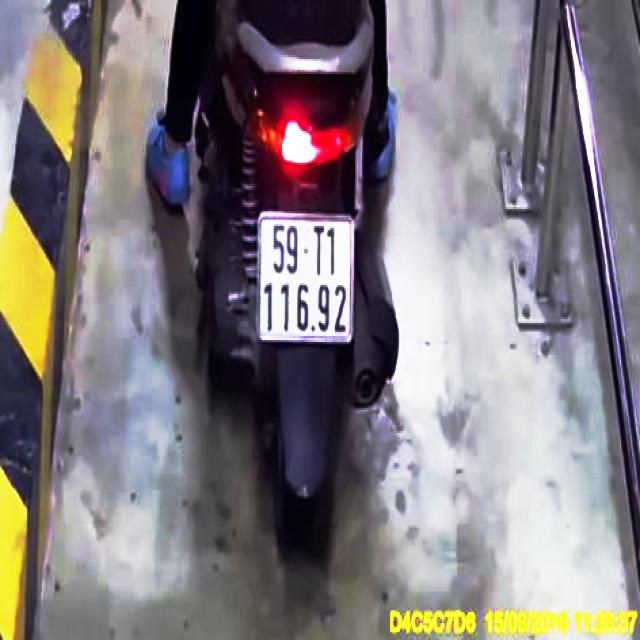license_plate: (259, 214, 354, 345)
